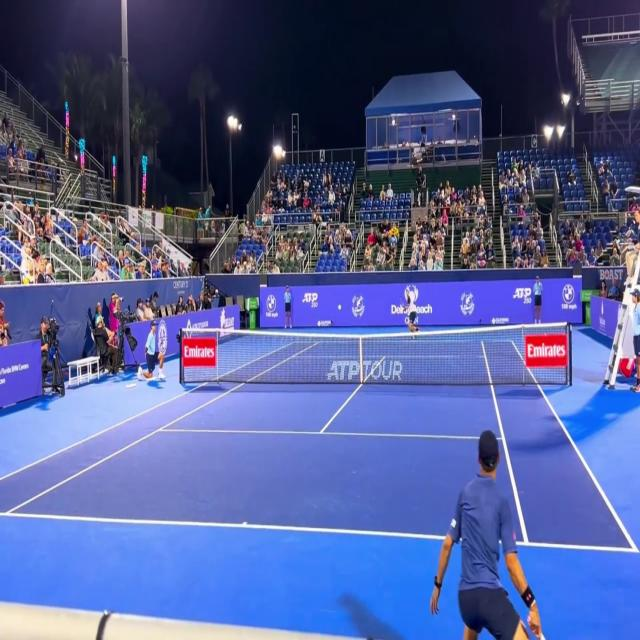tennisBall: (337, 302, 342, 313)
